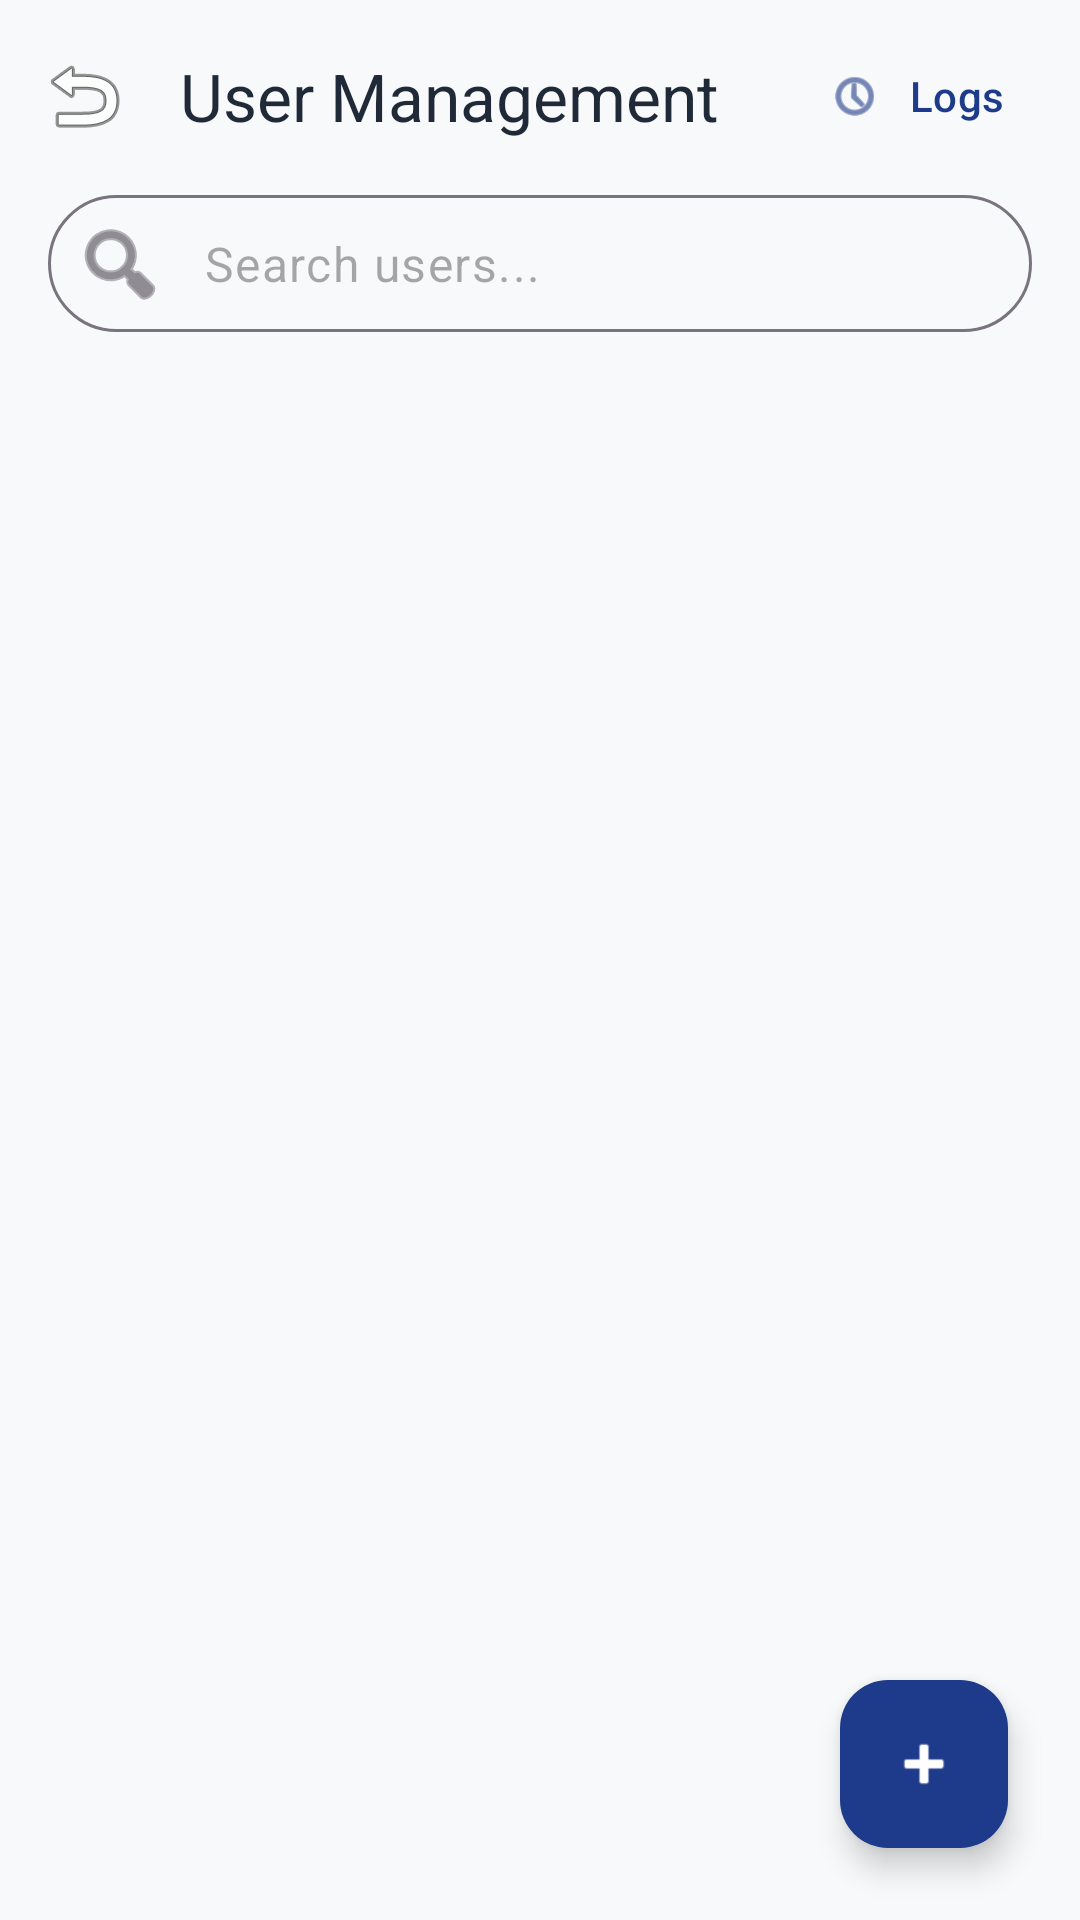

Screen size 1080 x 1920. Icon name, then its box in pixels as (x1,y1,x2,y2):
Add New User: (840,1680,1008,1848)
